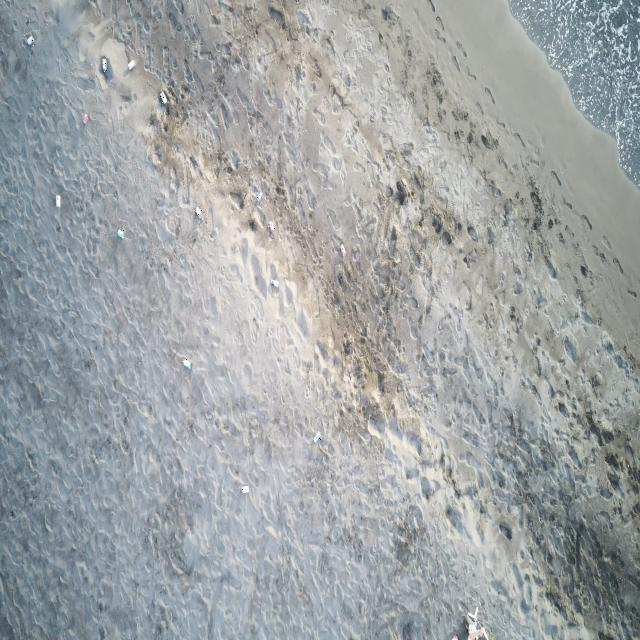Garbage: (464, 607, 487, 639), (396, 180, 407, 204), (464, 607, 476, 623), (100, 55, 108, 74), (181, 356, 190, 368), (159, 89, 166, 104), (267, 220, 275, 233), (24, 35, 33, 45), (116, 227, 123, 239), (127, 60, 135, 70), (340, 243, 346, 256), (81, 112, 88, 123), (313, 432, 320, 443), (55, 193, 60, 207), (195, 207, 201, 218), (255, 192, 261, 203), (240, 484, 247, 492), (272, 279, 278, 287), (451, 633, 457, 639)
